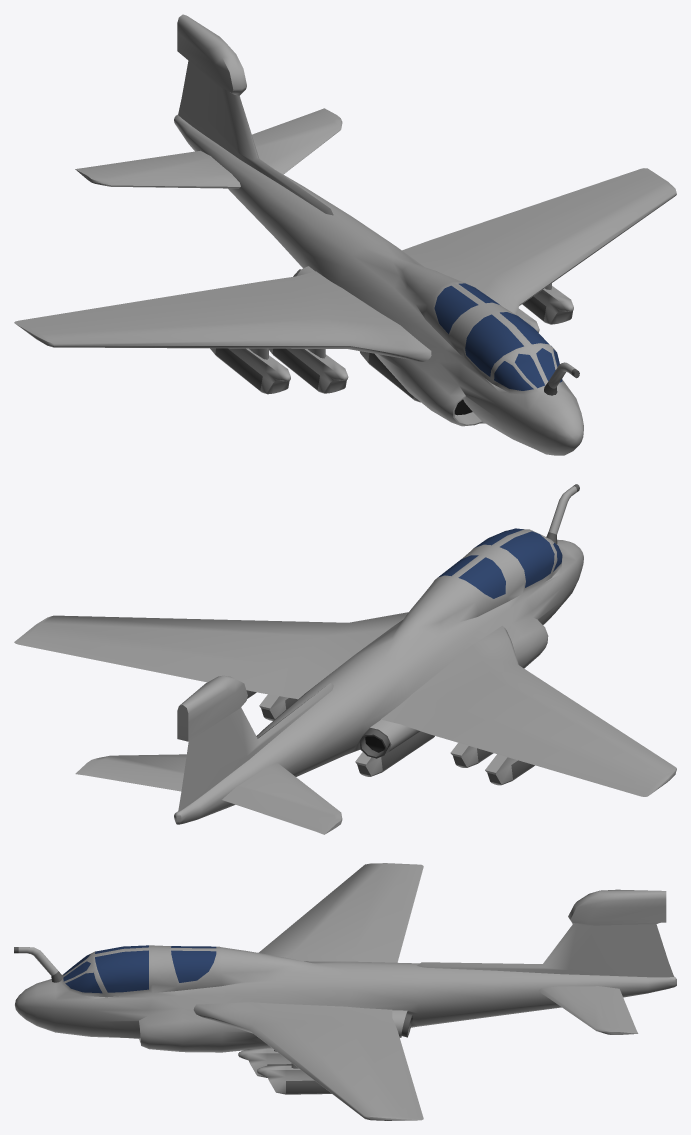
Rendered from EA6B_PROWLER.glb.
3 views of the same model, one above another, from view 1: azimuth 30°, elevation 25°; view 2: azimuth 150°, elevation 25°; view 3: azimuth 270°, elevation 25° (orthographic). The views are drawn at different scales.
Visible parts, largest first — view 1: ea6b_prowler; view 2: ea6b_prowler; view 3: ea6b_prowler.
Boxes of the visible parts, x1,y1,x2,y2 form: ea6b_prowler: [14, 14, 676, 455]; ea6b_prowler: [14, 484, 676, 834]; ea6b_prowler: [14, 863, 676, 1120].
Bounding box in the file's own units: 15.7 × 4.94 × 17.2.
